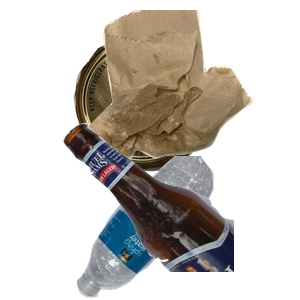glass: (60, 120, 300, 300)
metal: (71, 29, 276, 193)
plastic: (74, 156, 280, 300)
trash: (83, 10, 300, 163)
